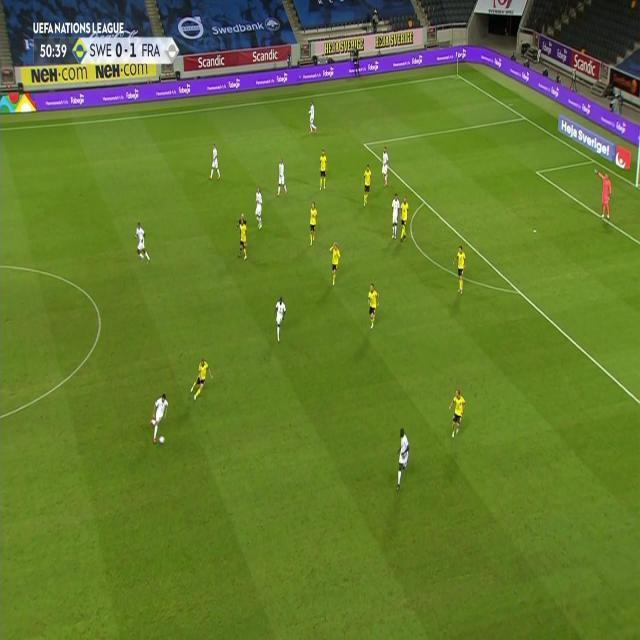ball: (159, 434, 166, 445)
goalkeeper: (595, 168, 613, 222)
player: (393, 427, 411, 494), (148, 392, 170, 445), (189, 357, 214, 403), (448, 388, 467, 441), (453, 244, 468, 297), (134, 221, 151, 265), (366, 281, 381, 330), (273, 294, 287, 343), (399, 195, 412, 241), (389, 192, 401, 240), (329, 240, 341, 286), (361, 162, 373, 207), (209, 143, 222, 181), (276, 158, 288, 198), (308, 199, 318, 245), (254, 184, 264, 229), (318, 148, 328, 191), (380, 146, 390, 187), (308, 101, 318, 135), (242, 221, 247, 264)
